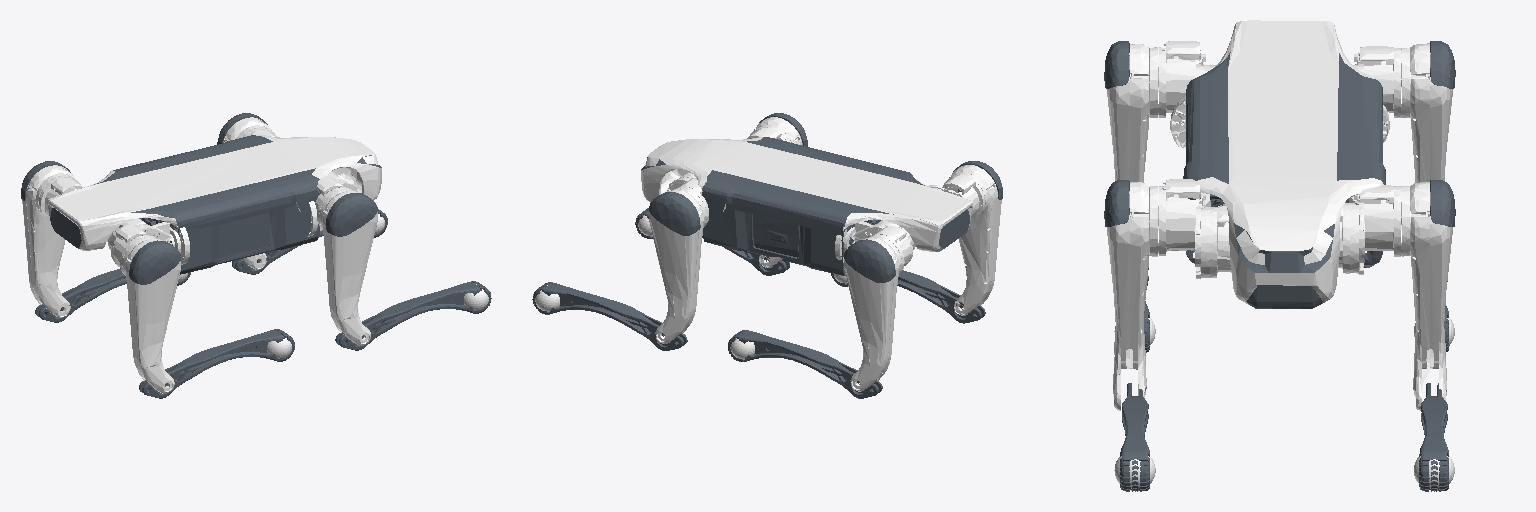
The robot description file, URDF, robot "Lite3":
<?xml version="1.0" encoding="utf-8"?>
<!-- This URDF was automatically created by SolidWorks to URDF Exporter! Originally created by [author] ([email redacted]) 
     Commit Version: 1.6.0-4-g7f85cfe  Build Version: 1.6.7995.38578
     For more information, please see http://wiki.ros.org/sw_urdf_exporter -->
<robot name="Lite3">
  <link name="TORSO">
    <inertial>
      <origin xyz="0 0 0" rpy="0 0 0" />
      <mass value="5.6056" />
      <inertia ixx="0.02456" ixy="0" ixz="0" iyy="0.05518" iyz="0" izz="0.07016" />
    </inertial>
    <visual> 
      <origin rpy="1.5708 0 1.5708" xyz="-0.05 -0.5 0.08"/> 
      <geometry> 
        <mesh filename="package://lite3_description/meshes/TORSO.dae" /> 
      </geometry> 
    </visual> 
    <collision> 
      <geometry> 
        <box size="0.234 0.184 0.08"/> 
      </geometry> 
    </collision> 
  </link>

  <!--!!!!!!!!!!!! Front Left Leg !!!!!!!!!!!!!!!!!!!!!!!!!!!!!!!!!!!!-->

  <link name="FL_HIP">
    <inertial>
      <origin xyz="-0.00601 -0.0066532 0.00034295" rpy="0 0 0" />
      <mass value="0.550" />
      <inertia ixx="0.0003949" ixy="0" ixz="0" iyy="0.0004028" iyz="0" izz="0.0004472" />
    </inertial>
    <visual> 
      <origin rpy="1.5708 0 1.5708" xyz="-0.231 -0.55 0.09"/> 
      <geometry> 
        <mesh filename="package://lite3_description/meshes/FL_HIP.dae" /> 
      </geometry> 
    </visual> 
    <!-- <collision>
      <origin xyz="0 0 0" rpy="0 0 0" />
      <geometry>
        <mesh filename="package://lite3_description/meshes/fl_hip.STL" />
      </geometry>
    </collision> -->
  </link>
  <joint name="FL_HipX"  type="revolute">
    <origin xyz="0.1745 0.062 0" rpy="0 0 0" />
    <parent link="TORSO" />
    <child link="FL_HIP" />
    <axis xyz="-1 0 0" />
    <limit lower="-0.523" upper="0.523" effort="30" velocity="20" />
  </joint>
  <link name="FL_THIGH">
    <inertial>
      <origin xyz="-0.0052817 -0.014632 -0.042672" rpy="0 0 0" />
      <mass value="0.86" />
      <inertia ixx="0.005736" ixy="0" ixz="0" iyy="0.004960" iyz="0" izz="0.001436" />
    </inertial>
    <visual> 
      <origin rpy="-2.0 0 1.5708" xyz="0.24 -0.66 0.021"/> 
      <geometry> 
        <mesh filename="package://lite3_description/meshes/L_THIGH.dae" /> 
      </geometry> 
    </visual> 
    <collision>
      <origin xyz="0 0 0" rpy="0 0 0" />
      <geometry> 
        <box size="0.02 0.02 0.16"/> 
      </geometry> 
    </collision>
  </link>
  <joint name="FL_HipY" type="revolute">
    <origin xyz="0 0.09735 0" rpy="0 0 0" />
    <parent link="FL_HIP" />
    <child link="FL_THIGH" />
    <axis xyz="0 -1 0" />
    <limit lower="-2.67" upper="0.314" effort="30" velocity="20" />
  </joint>
  <link name="FL_SHANK">
    <inertial>
      <origin xyz="0.0064794 -1.4535E-06 -0.12157" rpy="0 0 0" />
      <mass value="0.153" />
      <inertia ixx="0.00089039" ixy="0"  ixz="0"  iyy="0.00090672" iyz="0" izz="3.1266E-05" />
    </inertial>
    <visual> 
      <geometry> 
        <mesh filename="package://lite3_description/meshes/SHANK.dae" /> 
      </geometry> 
    </visual> 
    <collision>
      <origin xyz="0 0 0" rpy="0 0 0" />
      <geometry> 
        <box size="0.02 0.02 0.18"/> 
      </geometry> 
    </collision>
  </link>
  <joint name="FL_Knee" type="revolute">
    <origin xyz="0 0 -0.20" rpy="0 0 0" />
    <parent link="FL_THIGH" />
    <child link="FL_SHANK" />
    <axis xyz="0 -1 0" />
    <limit lower="0.524" upper="2.792" effort="30" velocity="20" />
  </joint>

   <link name="FL_FOOT">
    <contact>
      <friction_anchor/>
      <stiffness value="30000.0"/>
      <damping value="1000.0"/>
      <spinning_friction value="0.3"/>
      <lateral_friction value="1.0"/>
    </contact>
    <collision>
      <origin rpy="1.57079632679 0 0" xyz="0 0 0"/>
      <geometry>
        <sphere radius="0.022" />
      </geometry>
    </collision>
    <visual>
      <origin xyz="0 0 0" rpy="0 0 0" />
      <geometry>
        <sphere radius="0.022" />
      </geometry>
      <material name="">
        <color rgba="1 1 1 1" />
      </material>
    </visual>
    <inertial>
      <mass value="0.02"/>
      <inertia ixx="0" ixy="0" ixz="0" iyy="0" iyz="0" izz="0"/>
    </inertial>
  </link>

  <joint name="FL_Ankle" type="fixed" dont_collapse="true">
    <parent link="FL_SHANK"/>
    <child link="FL_FOOT"/>
    <origin xyz="0 0 -0.21012"/>
     
  </joint>

  <!--!!!!!!!!!!!! Front Right Leg !!!!!!!!!!!!!!!!!!!!!!!!!!!!!!!!!!!!-->
  <link name="FR_HIP">
    <inertial>
      <origin xyz="-0.010579 0.011358 0.00048546" rpy="0 0 0" />
      <mass value="0.550" />
      <inertia ixx="0.0004472" ixy="0" ixz="0" iyy="0.0004028" iyz="0" izz="0.0003949" />
    </inertial>
    <visual> 
      <origin rpy="1.5708 0 1.5708" xyz="-0.231 -0.46 0.085"/> 
      <geometry> 
        <mesh filename="package://lite3_description/meshes/FR_HIP.dae" /> 
      </geometry> 
    </visual> 
    <!-- <collision>
      <origin xyz="0 0 0" rpy="0 0 0" />
      <geometry>
        <mesh filename="package://lite3_description/meshes/fr_hip.STL" />
      </geometry>
    </collision> -->
  </link>
  <joint name="FR_HipX"
    type="revolute">
    <origin xyz="0.1745 -0.062 0" rpy="0 0 0" />
    <parent link="TORSO" />
    <child link="FR_HIP" />
    <axis xyz="-1 0 0" />
    <limit lower="-0.523" upper="0.523" effort="30" velocity="20" />
  </joint>

  <link name="FR_THIGH">
    <inertial>
      <origin xyz="-0.0039245 0.025256 -0.025146" rpy="0 0 0" />
      <mass value="0.86"/>
      <!-- inertia ixx="0.00433" ixy="0.00001" ixz="0.00034" iyy="0.00403"  iyz="-0.0000186" izz="0.00143" -->
      <inertia ixx="0.005736" ixy="0" ixz="0" iyy="0.004960" iyz="0" izz="0.001436" />
    </inertial>
    <visual> 
      <origin rpy="-2.0 0 1.5708" xyz="0.24 -0.35 0.021"/> 
      <geometry> 
        <mesh filename="package://lite3_description/meshes/R_THIGH.dae" /> 
      </geometry> 
    </visual> 
    <collision>
      <origin xyz="0 0 0" rpy="0 0 0" />
      <geometry> 
        <box size="0.02 0.02 0.16"/> 
      </geometry> 
    </collision>
  </link>
  <joint name="FR_HipY" type="revolute">
    <origin xyz="0 -0.09735 0" rpy="0 0 0" />
    <parent link="FR_HIP" />
    <child link="FR_THIGH" />
    <axis xyz="0 -1 0" />
    <limit lower="-2.67" upper="0.314" effort="30" velocity="20" />
  </joint>
  <link name="FR_SHANK">
    <inertial>
      <origin xyz="0.0064794 -1.4552E-06 -0.12157" rpy="0 0 0" />
      <mass value="0.153" />
      <inertia ixx="0.00089039" ixy="0"  ixz="0"  iyy="0.00090672" iyz="0" izz="3.1266E-05" />
    </inertial>
    <visual> 
      <geometry> 
        <mesh filename="package://lite3_description/meshes/SHANK.dae" /> 
      </geometry> 
    </visual> 
    <collision>
      <origin xyz="0 0 0" rpy="0 0 0" />
      <geometry> 
        <box size="0.02 0.02 0.18"/> 
      </geometry> 
    </collision>
  </link>
  <joint name="FR_Knee" type="revolute">
    <origin xyz="0 0 -0.20" rpy="0 0 0" />
    <parent link="FR_THIGH" />
    <child link="FR_SHANK" />
    <axis xyz="0 -1 0" />
    <limit lower="0.524" upper="2.792" effort="30" velocity="20" />
  </joint>

    <link name="FR_FOOT">
    <contact>
      <friction_anchor/>
      <stiffness value="30000.0"/>
      <damping value="1000.0"/>
      <spinning_friction value="0.3"/>
      <lateral_friction value="1.0"/>
    </contact>
    <collision>
      <origin rpy="1.57079632679 0 0" xyz="0 0 0"/>
      <geometry>
        <sphere radius="0.022" />
      </geometry>
    </collision>
     <visual>
      <origin xyz="0 0 0" rpy="0 0 0" />
      <geometry>
        <sphere radius="0.022" />
      </geometry>
      <material name="">
        <color rgba="1 1 1 1" />
      </material>
    </visual>
    <inertial>
      <mass value="0.02"/>
      <inertia ixx="0" ixy="0" ixz="0" iyy="0" iyz="0" izz="0"/>
    </inertial>
  </link>

  <joint name="FR_Ankle" type="fixed" dont_collapse="true">
    <parent link="FR_SHANK"/>
    <child link="FR_FOOT"/>
    <origin xyz="0 0 -0.21012"/>
     
  </joint>

  <!--!!!!!!!!!!!! Back Left Leg !!!!!!!!!!!!!!!!!!!!!!!!!!!!!!!!!!!!-->
   <link name="HL_HIP">
    <inertial>
      <origin xyz="0.010905 -0.012636 0.001051" rpy="0 0 0" />
      <mass value="0.550" />
      <inertia ixx="0.0003949" ixy="0" ixz="0" iyy="0.0004028" iyz="0" izz="0.0004472" />
    </inertial>
    <visual> 
      <origin rpy="1.5708 0 1.5708" xyz="0.12 -0.55 0.09"/> 
      <geometry> 
        <mesh filename="package://lite3_description/meshes/HL_HIP.dae" /> 
      </geometry> 
    </visual> 
    <!-- <collision>
      <origin xyz="0 0 0" rpy="0 0 0" />
      <geometry>
        <mesh filename="package://lite3_description/meshes/hl_hip.STL" />
      </geometry>
    </collision> -->
  </link>
  <joint name="HL_HipX" type="revolute">
    <origin xyz="-0.1745 0.062 0" rpy="0 0 0" />
    <parent link="TORSO" />
    <child link="HL_HIP" />
    <axis xyz="-1 0 0" />
    <limit lower="-0.523" upper="0.523" effort="30" velocity="20" />
  </joint>
  <link name="HL_THIGH">
    <inertial>
      <origin xyz="-0.0057137 -0.014631 -0.042453" rpy="0 0 0" />
      <mass value="0.86" />
      <inertia ixx="0.005736" ixy="0" ixz="0" iyy="0.004960" iyz="0" izz="0.001436" />
    </inertial>
    <visual> 
      <origin rpy="-2.0 0 1.5708" xyz="0.24 -0.66 0.021"/> 
      <geometry> 
        <mesh filename="package://lite3_description/meshes/L_THIGH.dae" /> 
      </geometry> 
    </visual> 
    <collision>
      <origin xyz="0 0 0" rpy="0 0 0" />
      <geometry> 
        <box size="0.02 0.02 0.16"/> 
      </geometry> 
    </collision>
  </link>
  <joint name="HL_HipY" type="revolute">
    <origin xyz="0 0.09735 0" rpy="0 0 0" />
    <parent link="HL_HIP" />
    <child link="HL_THIGH" />
    <axis xyz="0 -1 0" />
    <limit lower="-2.67" upper="0.314" effort="30" velocity="20" />
  </joint>
  <link name="HL_SHANK">
    <inertial>
      <origin xyz="0.0064794 -1.4558E-06 -0.12157" rpy="0 0 0" />
      <mass value="0.153" />
      <inertia ixx="0.00089039" ixy="0"  ixz="0"  iyy="0.00090672" iyz="0" izz="3.1266E-05" />
    </inertial>
    <visual> 
      <geometry> 
        <mesh filename="package://lite3_description/meshes/SHANK.dae" /> 
      </geometry> 
    </visual> 
    <collision>
      <origin xyz="0 0 0" rpy="0 0 0" />
      <geometry> 
        <box size="0.02 0.02 0.18"/> 
      </geometry> 
    </collision>
  </link>
  <joint name="HL_Knee" type="revolute">
    <origin xyz="0 0 -0.20" rpy="0 0 0" />
    <parent link="HL_THIGH" />
    <child link="HL_SHANK" />
    <axis xyz="0 -1 0" />
    <limit lower="0.524" upper="2.792" effort="30" velocity="20" />
  </joint>

  <link name="HL_FOOT">
    <contact>
      <friction_anchor/>
      <stiffness value="30000.0"/>
      <damping value="1000.0"/>
      <spinning_friction value="0.3"/>
      <lateral_friction value="1.0"/>
    </contact>
    <collision>
      <origin rpy="1.57079632679 0 0" xyz="0 0 0"/>
      <geometry>
        <sphere radius="0.022" />
      </geometry>
    </collision>
    <visual>
      <origin xyz="0 0 0" rpy="-1.57 0 0" />
      <geometry>
        <sphere radius="0.022" />
      </geometry>
      <material name="">
        <color rgba="1 1 1 1" />
      </material>
    </visual>
    <inertial>
      <mass value="0.02"/>
      <inertia ixx="0" ixy="0" ixz="0" iyy="0" iyz="0" izz="0"/>
    </inertial>
  </link>

  <joint name="HL_Ankle" type="fixed" dont_collapse="true">
    <parent link="HL_SHANK"/>
    <child link="HL_FOOT"/>
    <origin xyz="0 0 -0.21012"/>
     
  </joint>
  <!--!!!!!!!!!!!! Back Right Leg !!!!!!!!!!!!!!!!!!!!!!!!!!!!!!!!!!!!-->

  <link name="HR_HIP">
    <inertial>
      <origin xyz="0.010354 0.011423 0.00049498" rpy="0 0 0" />
      <mass value="0.550" />
      <inertia ixx="0.0003949" ixy="0" ixz="0" iyy="0.0004028" iyz="0" izz="0.0004472" />
    </inertial>
    <visual> 
      <origin rpy="1.5708 0 1.5708" xyz="0.12 -0.46 0.09"/> 
      <geometry> 
        <mesh filename="package://lite3_description/meshes/HR_HIP.dae" /> 
      </geometry> 
    </visual> 
    <!-- <collision>
      <origin xyz="0 0 0" rpy="0 0 0" />
      <geometry>
        <mesh filename="package://lite3_description/meshes/hr_hip.STL" />
      </geometry>
    </collision> -->
  </link>
  <joint name="HR_HipX" type="revolute">
    <origin xyz="-0.1745 -0.062 0" rpy="0 0 0" />
    <parent link="TORSO" />
    <child link="HR_HIP" />
    <axis xyz="-1 0 0" />
    <limit lower="-0.523" upper="0.523" effort="30" velocity="20" />
  </joint>
  <link name="HR_THIGH">
    <inertial>
      <origin xyz="-0.0031903 0.02526 -0.025617" rpy="0 0 0" />
      <mass value="0.86"/>
      <inertia ixx="0.005736" ixy="0" ixz="0" iyy="0.004960" iyz="0" izz="0.001436" />
    </inertial>
    <visual> 
      <origin rpy="-2.0 0 1.5708" xyz="0.24 -0.35 0.021"/> 
      <geometry> 
        <mesh filename="package://lite3_description/meshes/R_THIGH.dae" /> 
      </geometry> 
    </visual> 
    <collision>
      <origin xyz="0 0 0" rpy="0 0 0" />
      <geometry> 
        <box size="0.02 0.02 0.16"/> 
      </geometry> 
    </collision>
  </link>
  <joint name="HR_HipY" type="revolute">
    <origin xyz="0 -0.09735 0" rpy="0 0 0" />
    <parent link="HR_HIP" />
    <child link="HR_THIGH" />
    <axis xyz="0 -1 0" />
    <limit lower="-2.67" upper="0.314" effort="30" velocity="20" />
  </joint>
  <link name="HR_SHANK">
    <inertial>
      <origin xyz="0.0064794 -1.4529E-06 -0.12157" rpy="0 0 0" />
      <mass value="0.153" />
      <inertia ixx="0.00089039" ixy="0"  ixz="0"  iyy="0.00090672" iyz="0" izz="3.1266E-05" />
    </inertial>
    <visual> 
      <geometry> 
        <mesh filename="package://lite3_description/meshes/SHANK.dae" /> 
      </geometry> 
    </visual> 
    <collision>
      <origin xyz="0 0 0" rpy="0 0 0" />
      <geometry> 
        <box size="0.02 0.02 0.18"/> 
      </geometry> 
    </collision>
  </link>
  <joint name="HR_Knee" type="revolute">
    <origin xyz="0 0 -0.20" rpy="0 0 0" />
    <parent link="HR_THIGH" />
    <child link="HR_SHANK" />
    <axis xyz="0 -1 0" />
    <limit lower="0.524" upper="2.792" effort="30" velocity="20" />
  </joint>

  <link name="HR_FOOT">
    <contact>
      <friction_anchor/>
      <stiffness value="30000.0"/>
      <damping value="1000.0"/>
      <spinning_friction value="0.3"/>
      <lateral_friction value="1.0"/>
    </contact>
    <collision>
      <origin rpy="1.57079632679 0 0" xyz="0 0 0"/>
      <geometry>
        <sphere radius="0.022" />
      </geometry>
    </collision>
      <visual>
      <origin xyz="0 0 0" rpy="-1.57 0 0" />
      <geometry>
        <sphere radius="0.022" />
      </geometry>
      <material name="">
        <color rgba="1 1 1 1" />
      </material>
    </visual>
    <inertial>
      <mass value="0.02"/>
      <inertia ixx="0" ixy="0" ixz="0" iyy="0" iyz="0" izz="0"/>
    </inertial>
  </link>

  <joint name="HR_Ankle" type="fixed" dont_collapse="true">
    <parent link="HR_SHANK"/>
    <child link="HR_FOOT"/>
    <origin xyz="0 0 -0.21012"/>
  </joint>
  <link name="imu_link">
    <inertial>
      <origin xyz="0 0 0" rpy="0 0 0" />
      <mass value="0" />
      <inertia ixx="0" ixy="0" ixz="0" iyy="0" iyz="0" izz="0" />
    </inertial>
  </link>
  <joint name="imu_joint" type="fixed">
    <origin xyz="-0.02557 0 0.04232" rpy="0 0 0" />
    <parent link="TORSO" />
    <child link="imu_link" />
    <axis xyz="0 0 0" />
  </joint>
  <link name="radar">
    <inertial>
      <origin xyz="0 0 0" rpy="0 0 0" />
      <mass value="0" />
      <inertia ixx="0" ixy="0" ixz="0" iyy="0" iyz="0" izz="0" />
    </inertial>
  </link>
  <joint name="radar_joint" type="fixed">
    <origin xyz="0.28945 0 -0.046825" rpy="0 2.8782 0" />
    <parent link="TORSO" />
    <child link="radar" />
    <axis xyz="0 0 0" />
  </joint>

</robot>

--- Render facts (derived) ---
3 views of the same robot in one strip: view 1: azimuth 30°, elevation 25°; view 2: azimuth 150°, elevation 25°; view 3: azimuth 270°, elevation 25° (orthographic).
Robot: Lite3 — 19 links, 18 joints (12 revolute, 6 fixed); root link TORSO; default pose: all joints at 0 but 4 set to mid-range because 0 is outside their limits (FL_Knee = 1.66, FR_Knee = 1.66, HL_Knee = 1.66, HR_Knee = 1.66).
Links seen in each view (by area): view 1: TORSO, HR_THIGH, FR_THIGH, HL_THIGH, HR_SHANK, FR_SHANK, HL_SHANK, FL_THIGH, HR_HIP, FL_SHANK; view 2: TORSO, HL_THIGH, FL_THIGH, HR_THIGH, HL_SHANK, FL_SHANK, HR_SHANK, FR_THIGH, HL_HIP, FR_SHANK; view 3: TORSO, FR_THIGH, FL_THIGH, HR_THIGH, HL_THIGH, FL_SHANK, FR_HIP, FR_SHANK, FL_HIP, HR_HIP.
Boxes of the visible links, x1,y1,x2,y2 form: TORSO: (47,135,381,274); HR_THIGH: (111,225,180,393); FR_THIGH: (315,177,377,345); HL_THIGH: (21,161,82,317); HR_SHANK: (139,329,294,398); FR_SHANK: (335,281,491,350); HL_SHANK: (35,268,190,322); FL_THIGH: (217,113,276,269); HR_HIP: (108,219,189,264); FL_SHANK: (232,209,387,274); TORSO: (641,137,972,275); HL_THIGH: (844,226,912,391); FL_THIGH: (649,178,708,343); HR_THIGH: (942,161,1002,315); HL_SHANK: (728,330,882,398); FL_SHANK: (532,282,687,350); HR_SHANK: (831,270,985,323); FR_THIGH: (747,113,807,267); HL_HIP: (835,220,915,262); FR_SHANK: (635,208,789,275); TORSO: (1183,20,1385,308); FR_THIGH: (1104,179,1205,410); FL_THIGH: (1354,180,1455,410); HR_THIGH: (1104,41,1205,182); HL_THIGH: (1354,41,1455,182); FL_SHANK: (1419,383,1448,491); FR_HIP: (1193,193,1230,278); FR_SHANK: (1120,383,1149,491); FL_HIP: (1339,196,1366,274); HR_HIP: (1170,64,1215,151).
Size in the robot's own frame: 0.6612 by 0.3744 by 0.2715 metres.
Meshes: 8 distinct files referenced, 13 mesh visuals loaded (8 Collada DAE).